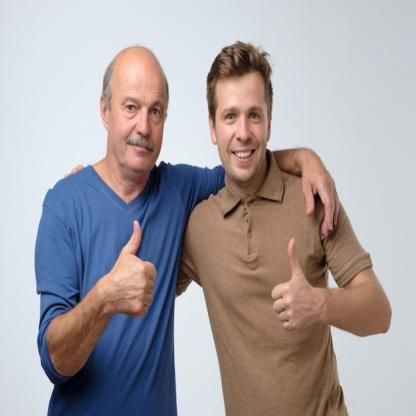thumb_up: (104, 219, 158, 320), (270, 234, 318, 336)
